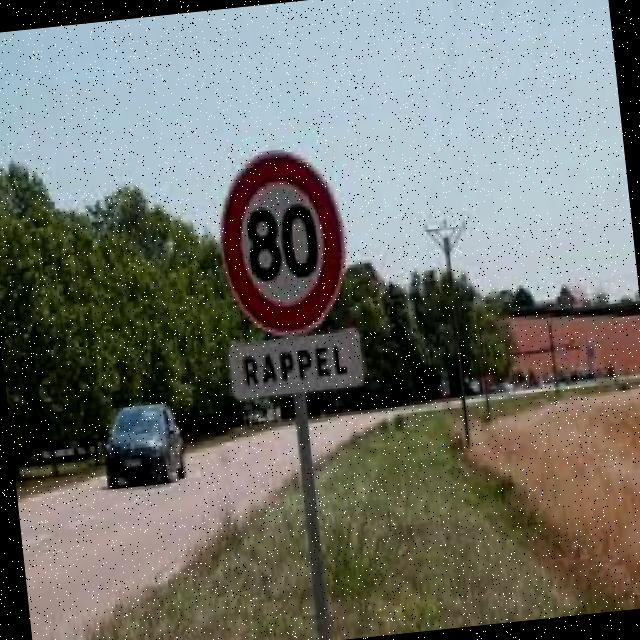Ograniczenie predkosci do 80: (213, 141, 349, 343)
